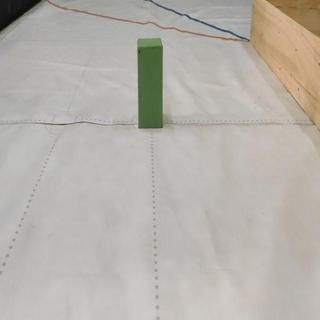greenbox: (136, 35, 165, 128)
